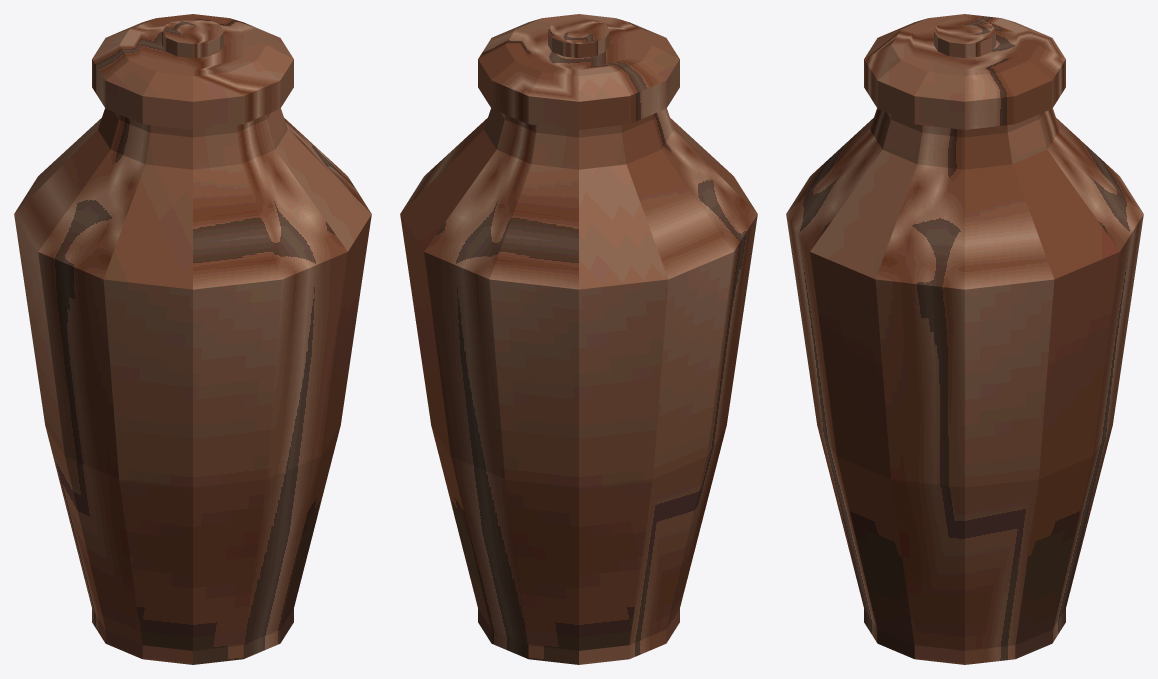
The model's file is cand_vase_jarlanperez-w.glb.
The picture shows the model from 3 angles, left to right: view 1: azimuth 30°, elevation 25°; view 2: azimuth 150°, elevation 25°; view 3: azimuth 270°, elevation 25°; orthographic projection.
Parts seen in each view (by area): view 1: Node; view 2: Node; view 3: Node.
Part boxes in pixels (x1=…): Node: x1=14, y1=14, x2=371, y2=664; Node: x1=400, y1=14, x2=757, y2=664; Node: x1=786, y1=14, x2=1143, y2=664.
Bounding box in the file's own units: 0.2303 × 0.42 × 0.2303.
Materials: 3 (3 with a texture image).
